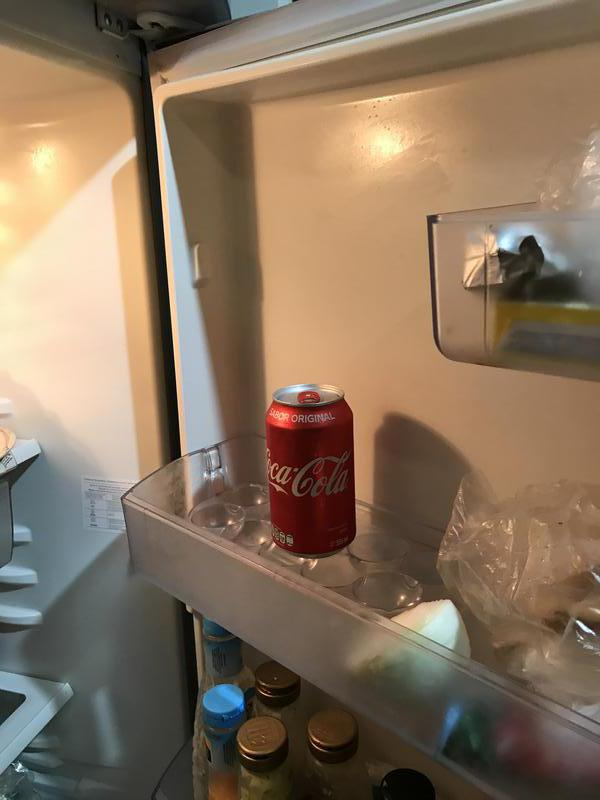coca_cola: (265, 388, 356, 557)
